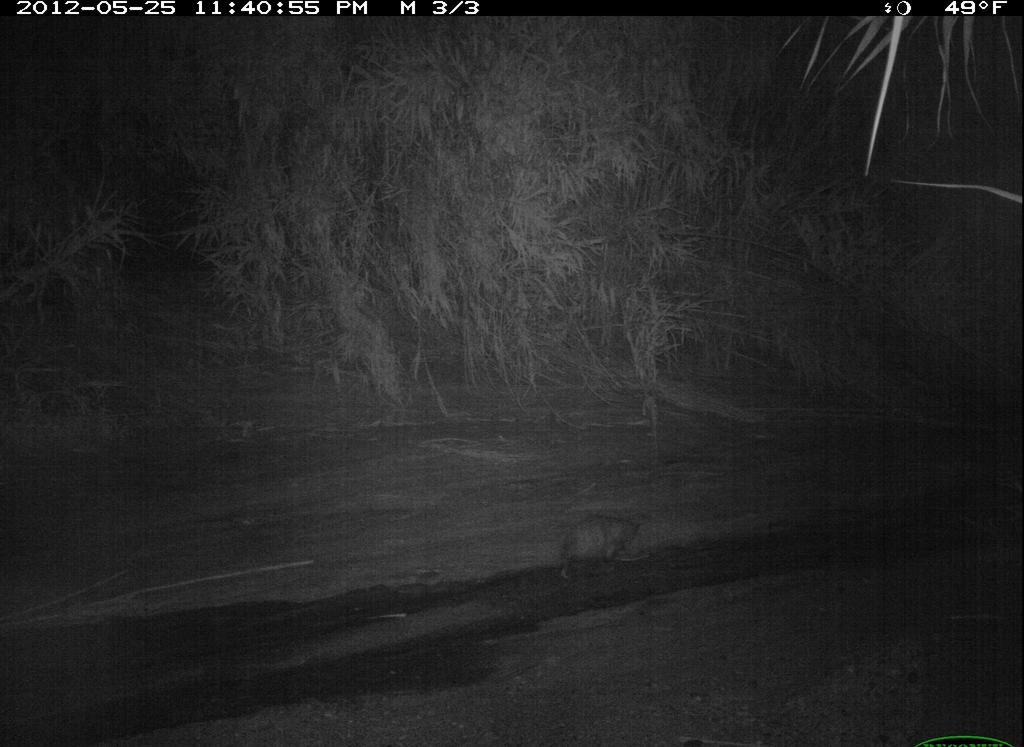opossum: (551, 501, 655, 598)
